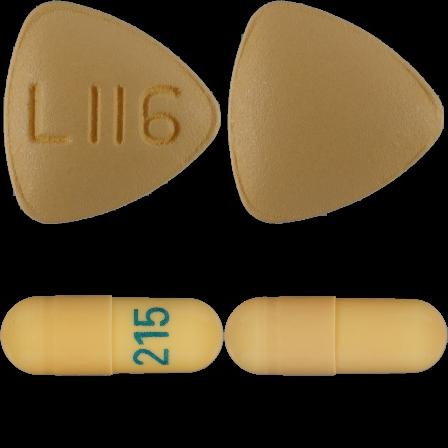69189-0334: (0, 0, 224, 224)
